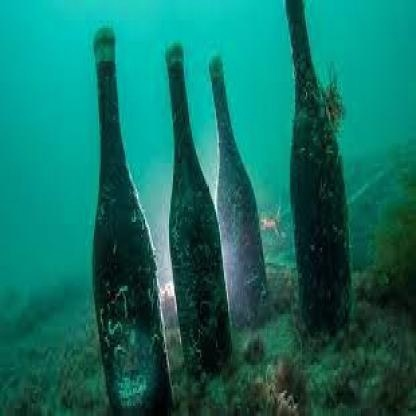gbottle: (93, 33, 173, 416), (284, 2, 356, 337), (165, 46, 234, 373), (209, 58, 268, 322)
